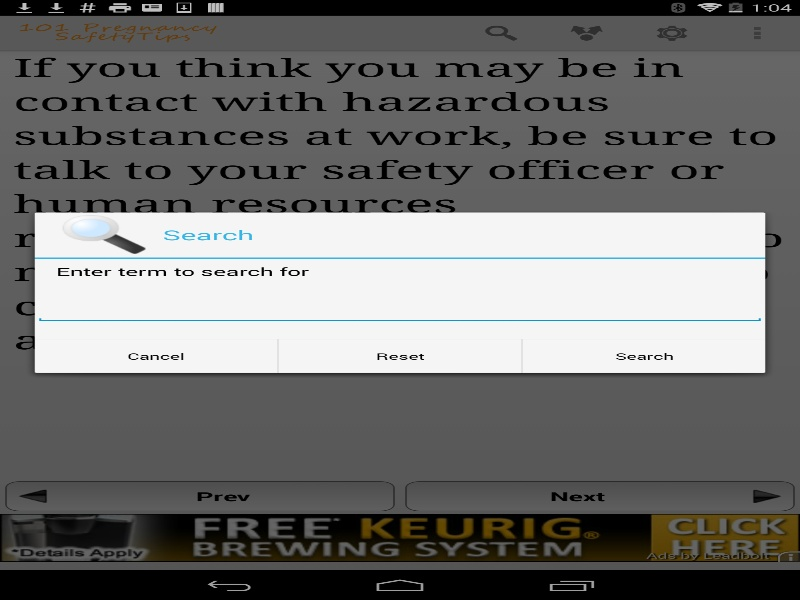Button: (34, 339, 277, 373), (278, 339, 521, 373), (522, 339, 765, 373)
Input: (34, 298, 765, 323)
